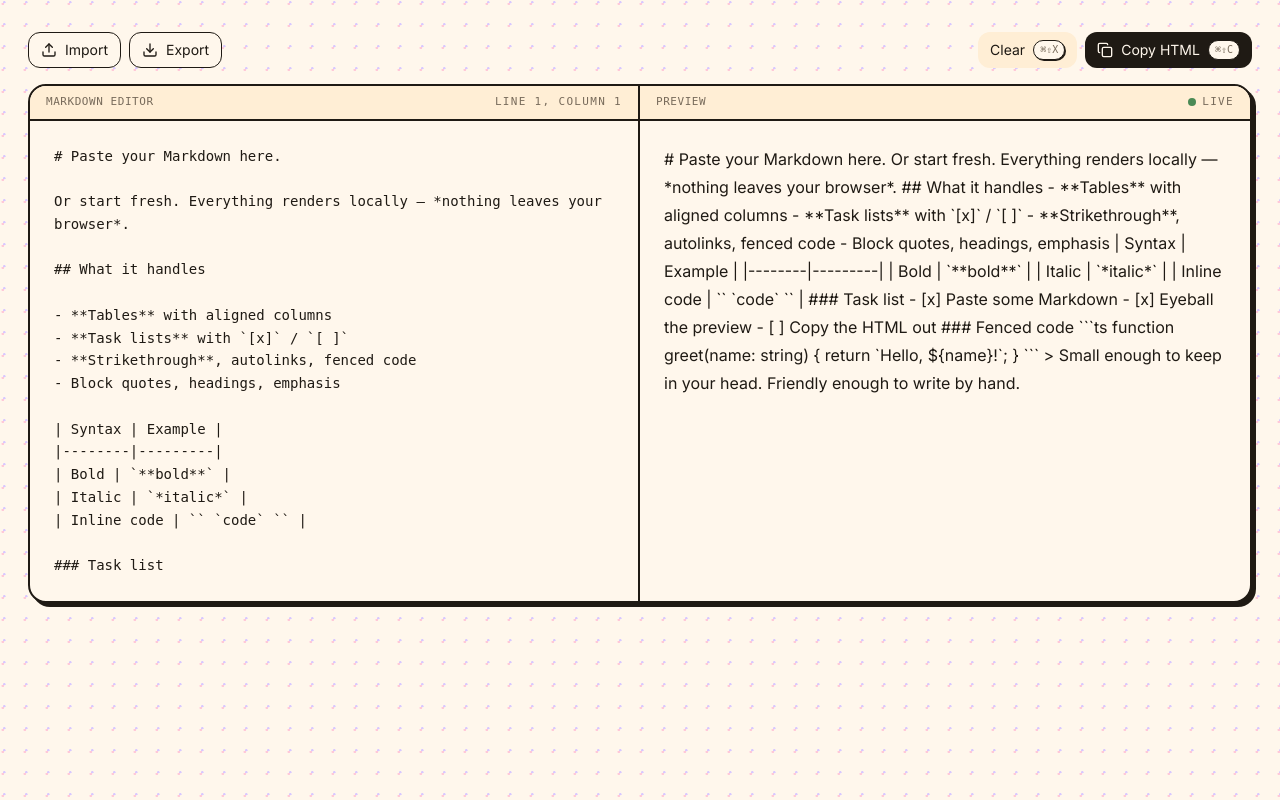
Test case: MarkdownPreviewRoute › shows empty state when content is cleared
Click the button "Clear".
click(1028, 50)  # box x1=978 y1=32 x2=1077 y2=68
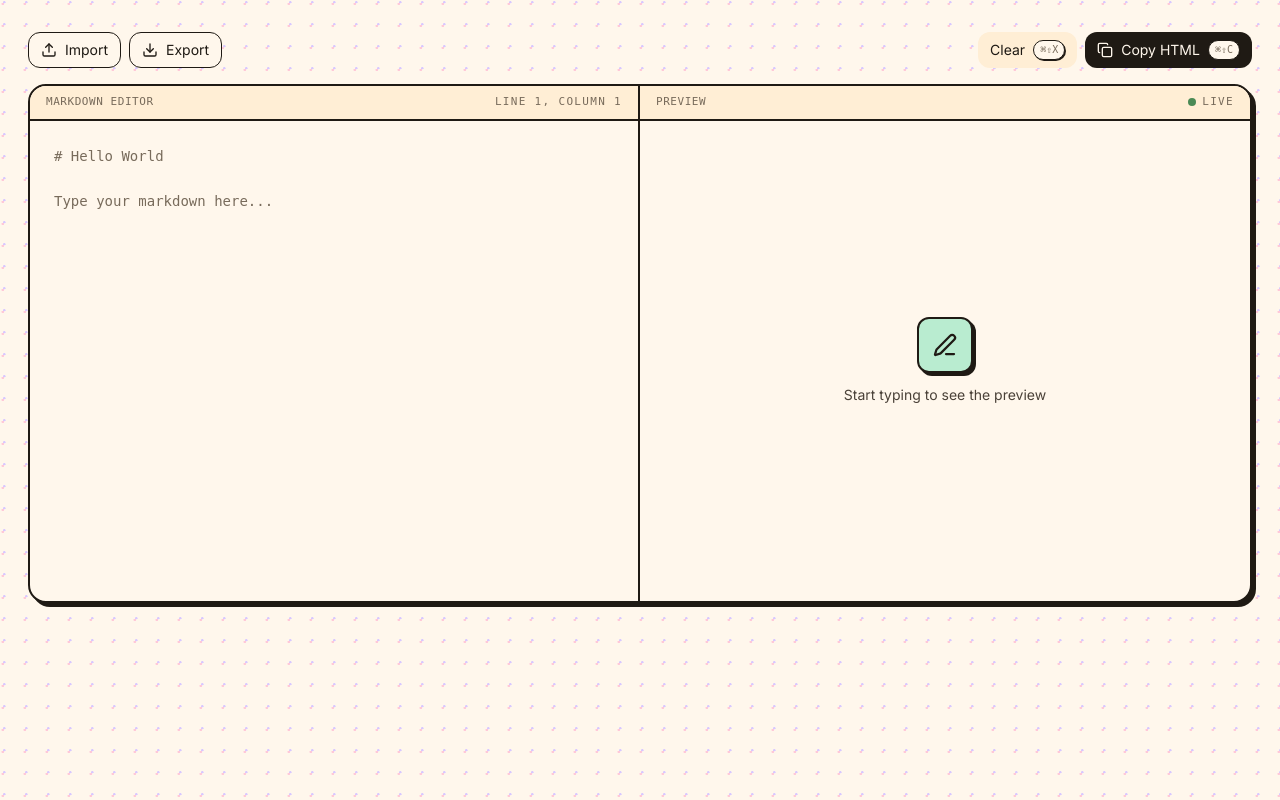
Check: the text box with placeholder "# Hello World Type your markdown here..." is empty, box x1=30 y1=120 x2=638 y2=600
Check: the element with test id "preview-empty" is shown, box x1=844 y1=316 x2=1046 y2=402
Check: the text "Start typing to see the preview" is shown, box x1=844 y1=384 x2=1046 y2=404
